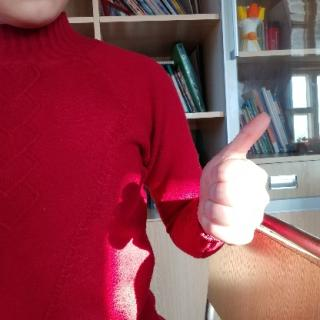ALIF: (189, 107, 281, 252)
